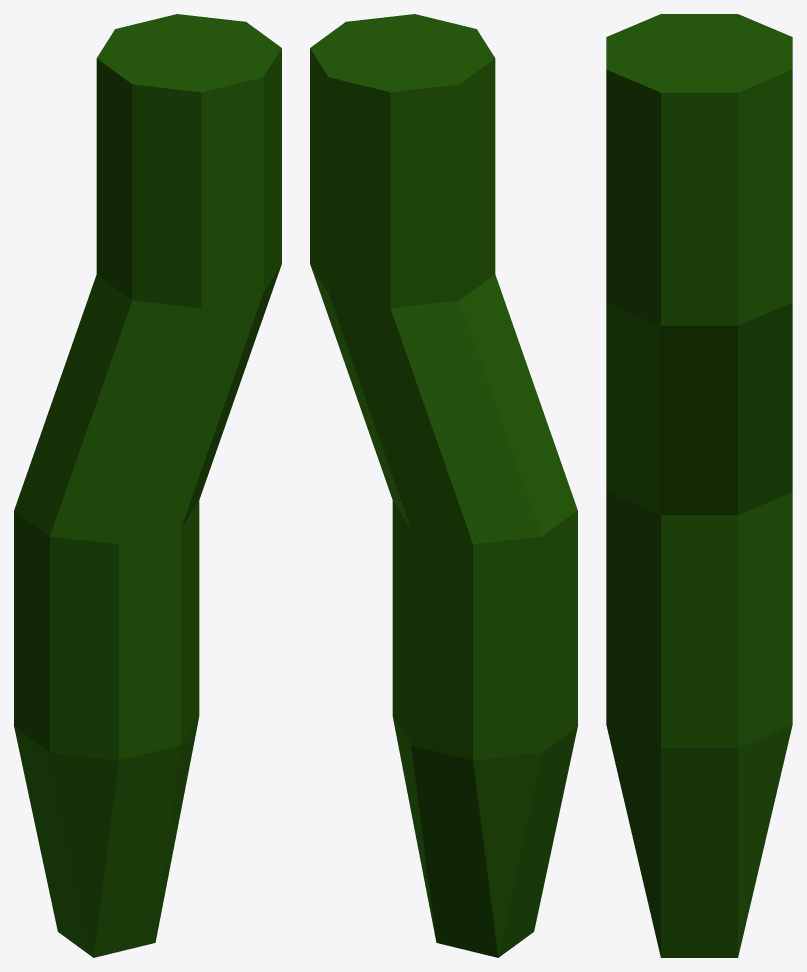
Rendered from Vine2.fbx.
3 views of the same model, side by side, from view 1: azimuth 30°, elevation 25°; view 2: azimuth 150°, elevation 25°; view 3: azimuth 270°, elevation 25° (orthographic). The views are drawn at different scales.
Visible parts, largest first — view 1: trunk (×2), trunk_skewLarge, trunk_taperReverse; view 2: trunk (×2), trunk_skewLarge, trunk_taperReverse; view 3: trunk (×2), trunk_skewLarge, trunk_taperReverse.
Boxes of the visible parts, <box> form: trunk (×2): <box>14,14,281,760</box>; trunk_skewLarge: <box>14,264,281,544</box>; trunk_taperReverse: <box>14,716,199,957</box>; trunk (×2): <box>310,14,577,760</box>; trunk_skewLarge: <box>310,264,577,544</box>; trunk_taperReverse: <box>392,716,577,957</box>; trunk (×2): <box>606,14,792,747</box>; trunk_skewLarge: <box>606,302,792,514</box>; trunk_taperReverse: <box>606,725,792,957</box>.
Bounding box in the file's own units: 5.62 × 20 × 3.62.
